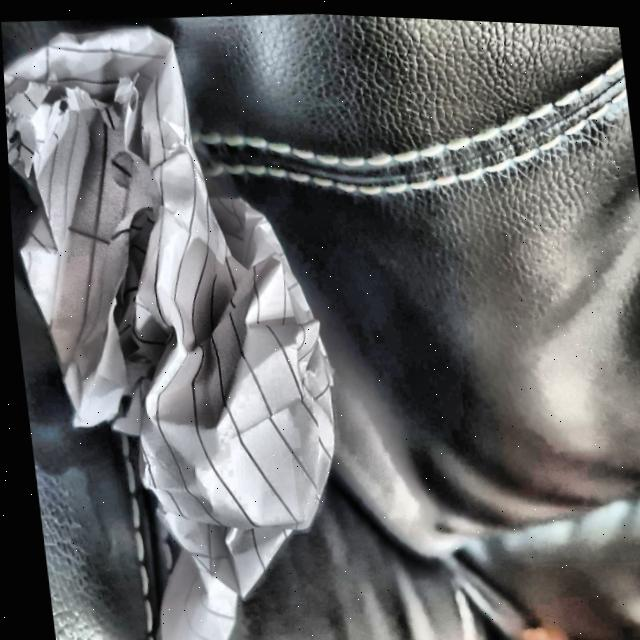paper: (0, 1, 363, 640)
